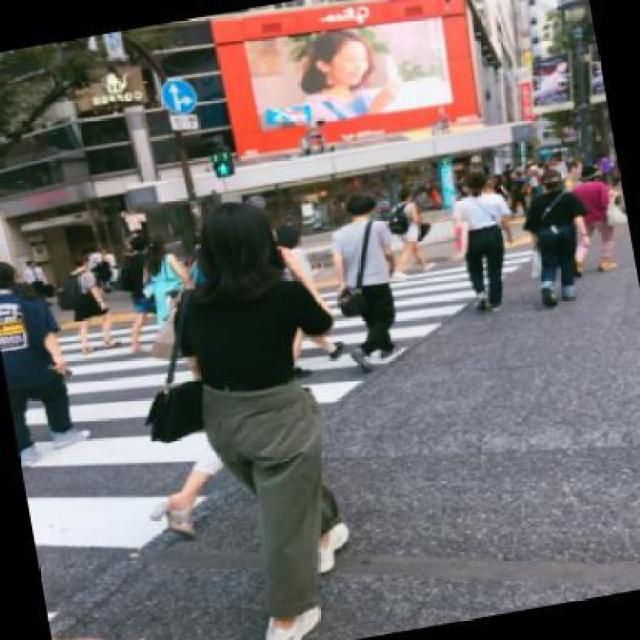Person: (156, 191, 362, 638), (317, 194, 417, 375), (0, 249, 82, 468), (444, 168, 522, 314), (518, 167, 596, 304), (556, 160, 626, 274), (56, 249, 121, 356), (134, 232, 194, 328), (385, 184, 432, 274)
